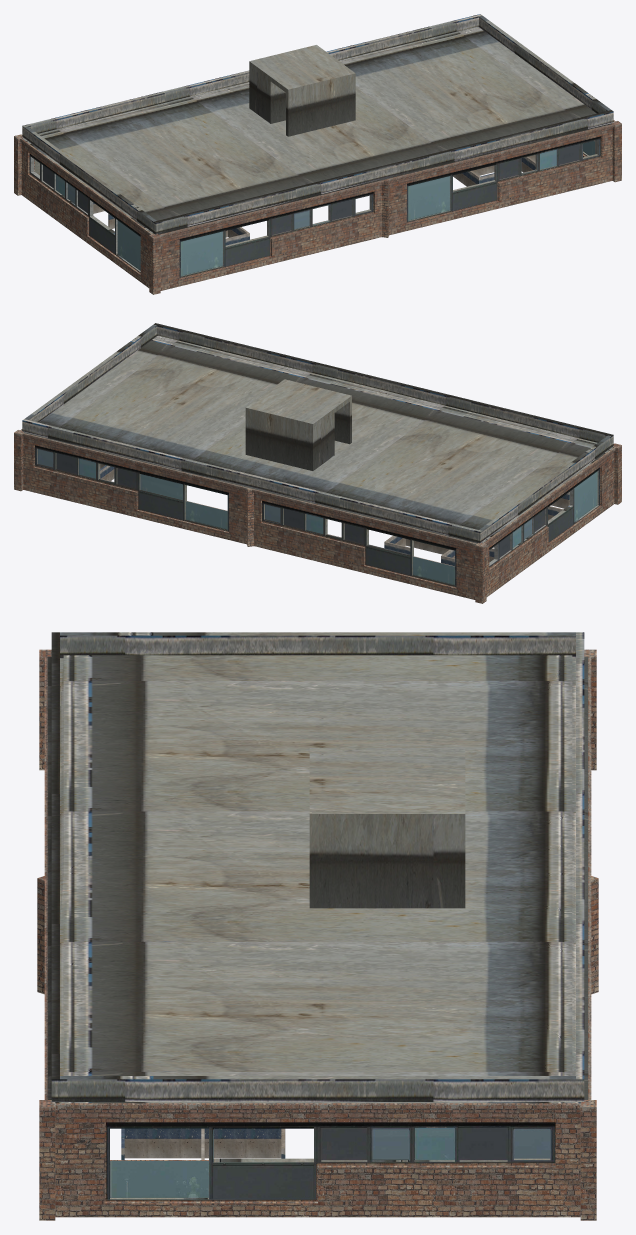
The model's file is BagSS11top_high.fbx.
The picture shows the model from 3 angles, top to bottom: view 1: azimuth 30°, elevation 25°; view 2: azimuth 150°, elevation 25°; view 3: azimuth 270°, elevation 25°; orthographic projection. The views are drawn at different scales.
Parts seen in each view (by area): view 1: topRoof700, topMain700, topWalltrim700, topInnerWalls700; view 2: topRoof700, topMain700, topWalltrim700, topInnerWalls700; view 3: topRoof700, topMain700, topInnerWalls700, topWalltrim700.
Part boxes in pixels (x1,y1,x2,y2): topRoof700: (22, 14, 613, 234); topMain700: (14, 120, 621, 294); topWalltrim700: (30, 139, 598, 276); topInnerWalls700: (93, 155, 535, 245); topRoof700: (22, 323, 613, 543); topMain700: (14, 429, 621, 603); topWalltrim700: (37, 448, 598, 585); topInnerWalls700: (100, 464, 569, 566); topRoof700: (47, 632, 588, 1103); topMain700: (37, 649, 598, 1220); topInnerWalls700: (121, 1128, 285, 1159); topWalltrim700: (110, 1158, 550, 1199).
Bounding box in the file's own units: 169 × 36.66 × 87.6.
